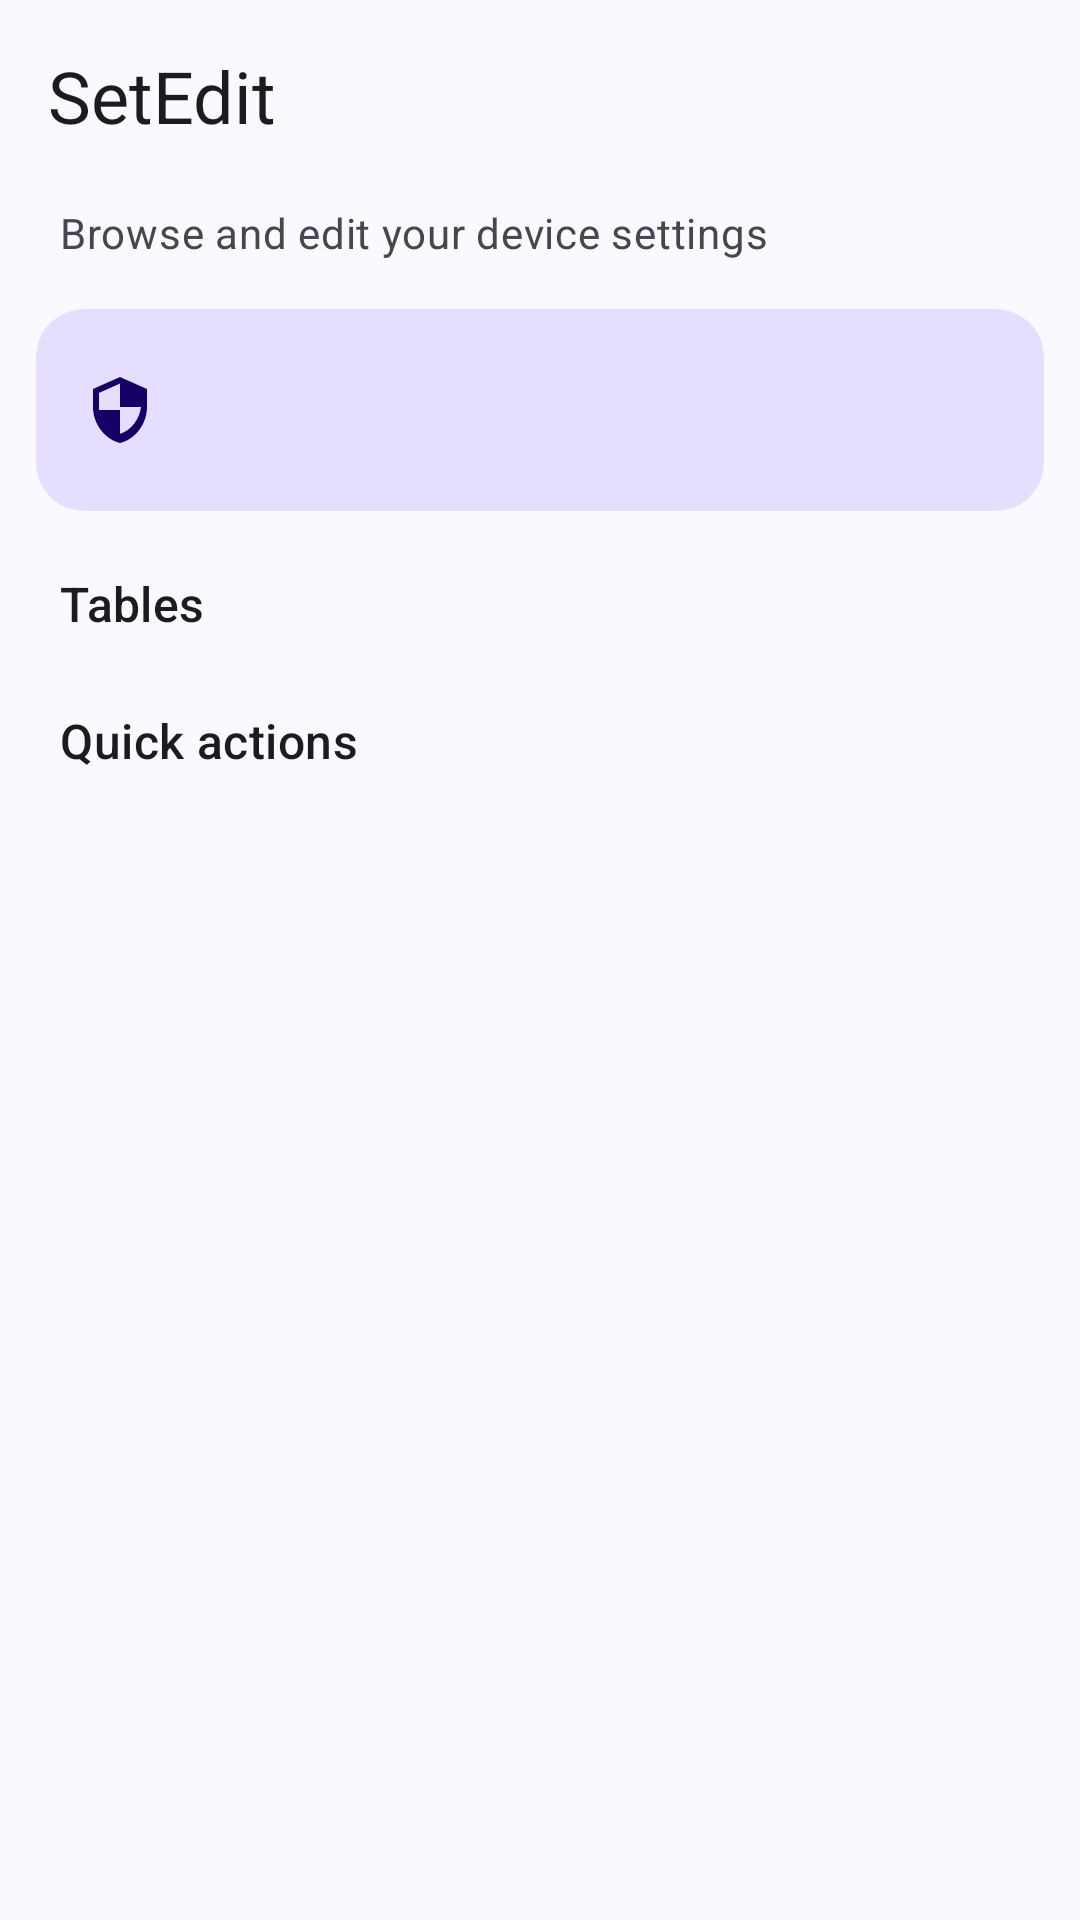

Where to tap for icons on this 1080 x 1920 app screen, as point (x, y):
shield: point (120, 410)
